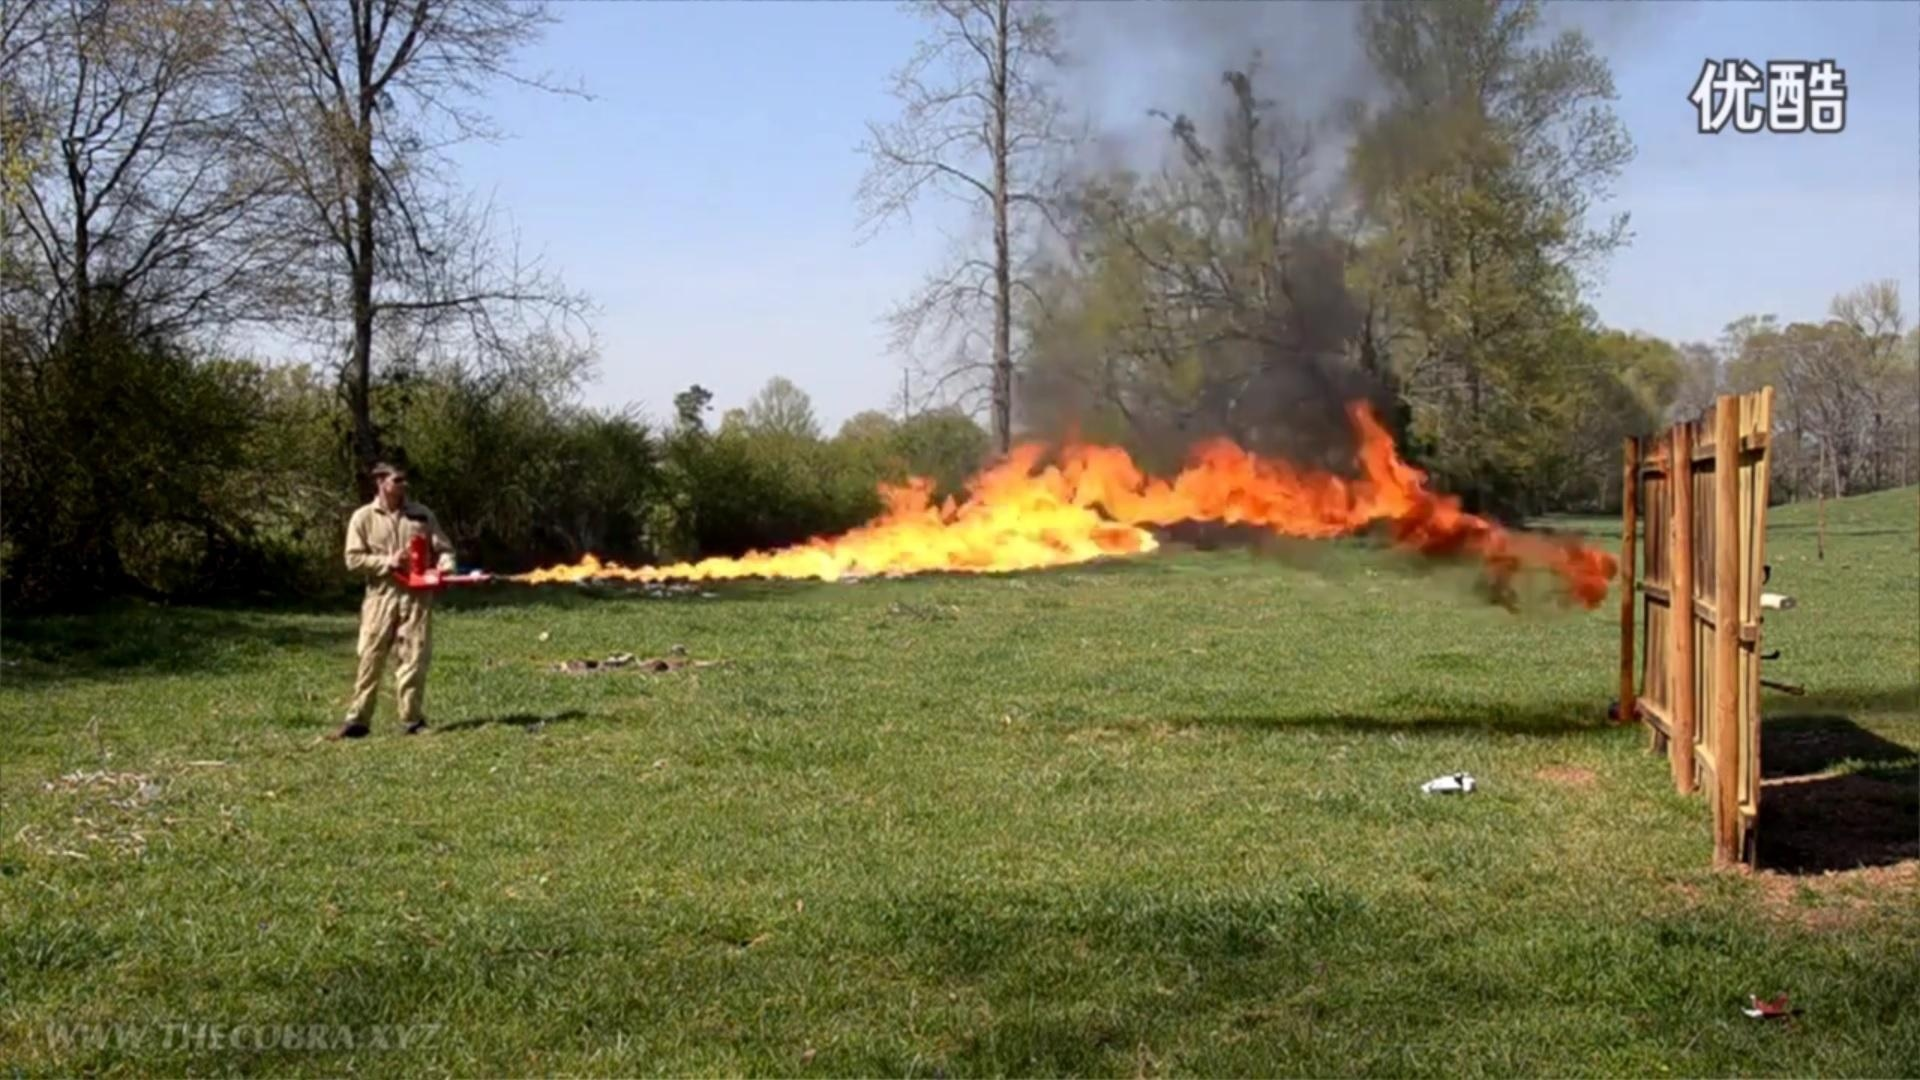fire: (475, 400, 1528, 615)
